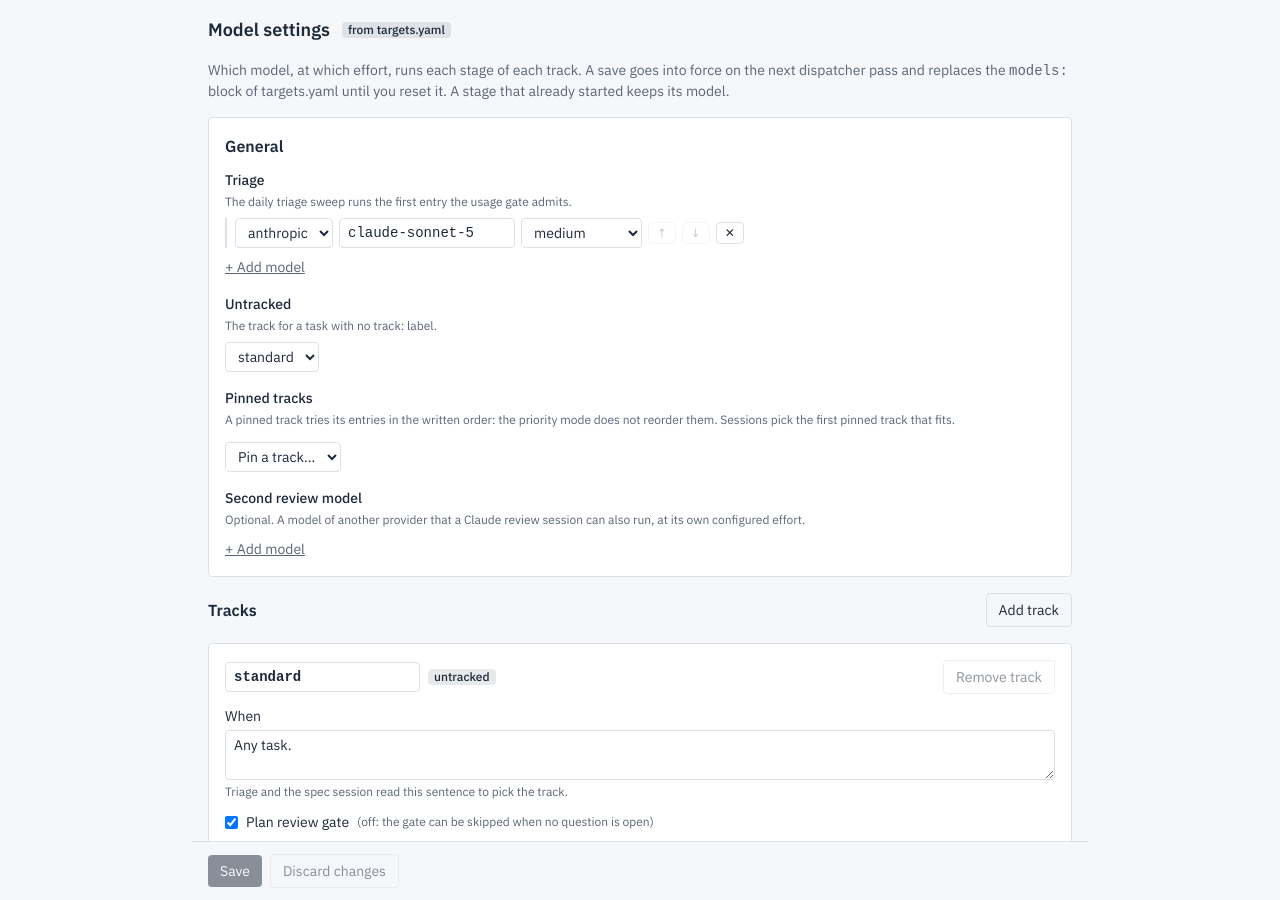
Scenario: discards unsaved changes
The image size is (1280, 900).
In the text box named "When standard": (640, 755) [225,730,1055,780], type " More."
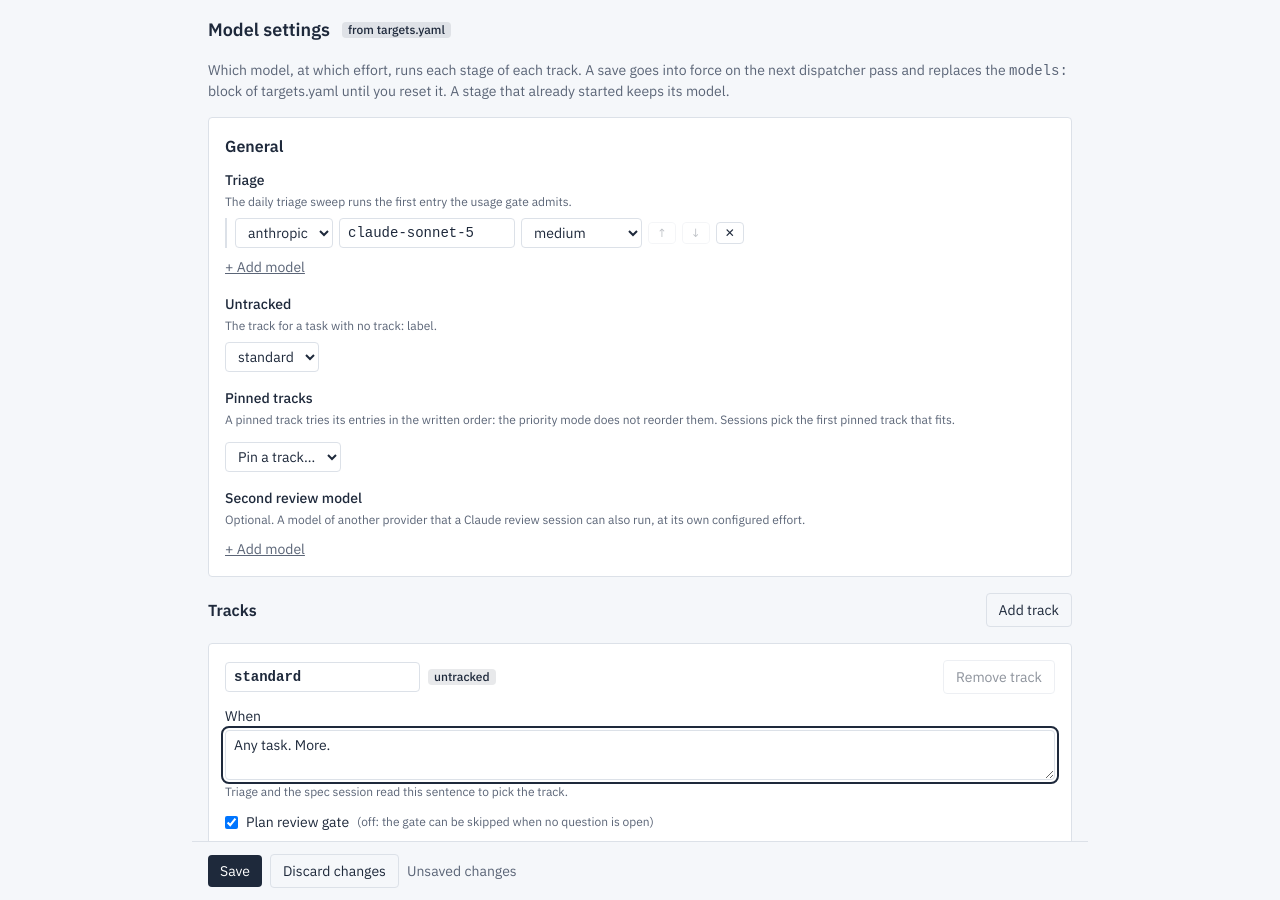
Click the button "Discard changes": click(334, 871) [270,854,399,888]
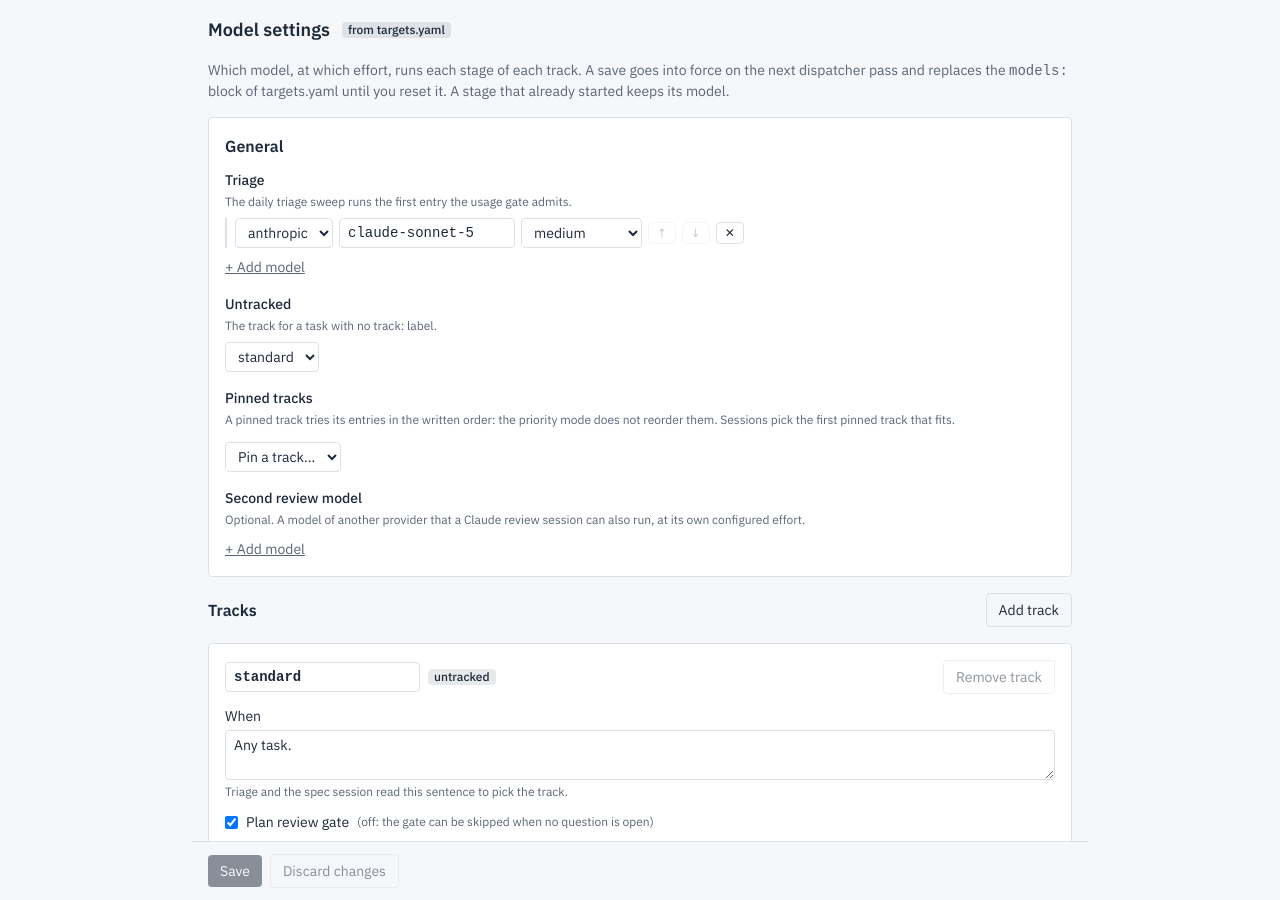
Expected: the text box named "When standard" holds "Any task.", [225,730,1055,780]
Expected: the button "Save" is disabled, [208,855,262,887]
